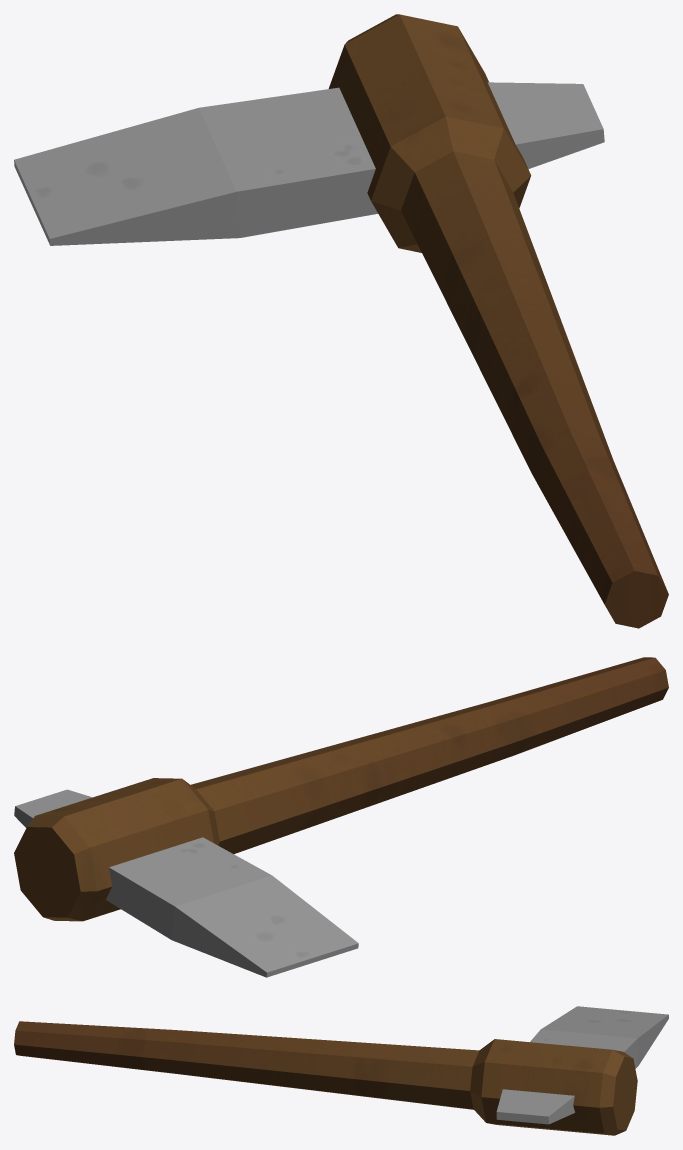
The model's file is SacrificialQuest2.gltf.
3 views of the same model, one above another, from view 1: azimuth 30°, elevation 25°; view 2: azimuth 150°, elevation 25°; view 3: azimuth 270°, elevation 25° (orthographic). The views are drawn at different scales.
Parts seen in each view (by area): view 1: Axe; view 2: Axe; view 3: Axe.
Boxes of the visible parts, x1,y1,x2,y2 form: Axe: [14, 14, 668, 628]; Axe: [14, 657, 668, 977]; Axe: [14, 1006, 668, 1135].
Bounding box in the file's own units: 0.2496 × 0.074 × 0.499.
2 materials, 2 textured.
